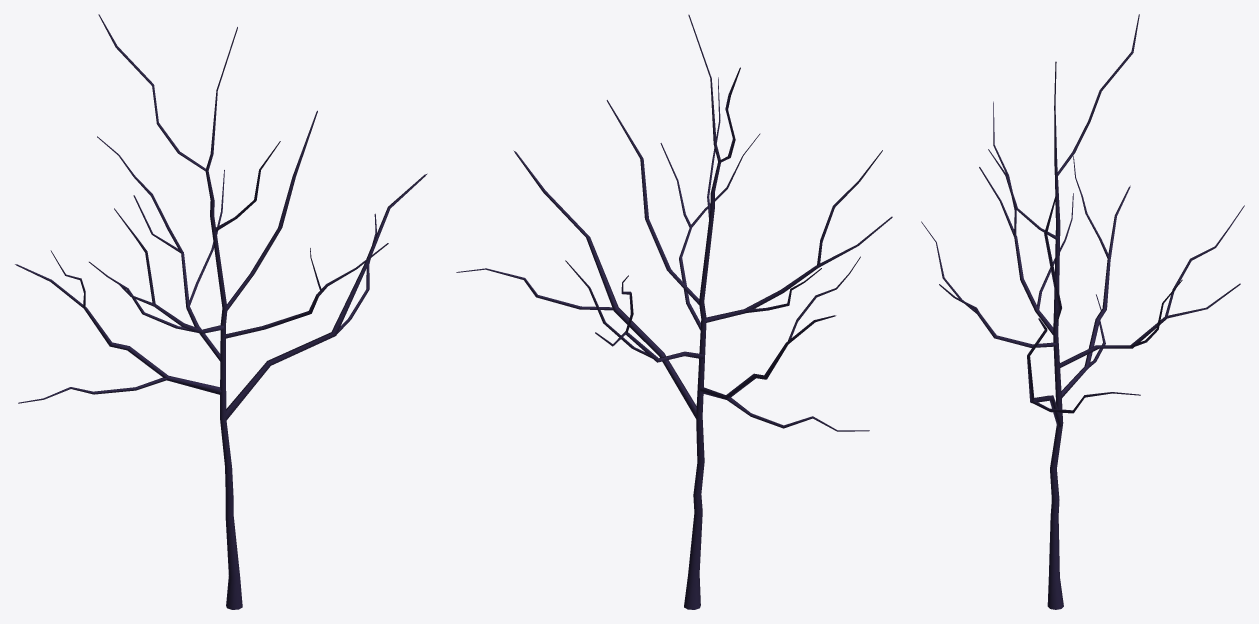
The model's file is cmc_baremaple.fbx.
3 renders of one model, left to right at view 1: azimuth 30°, elevation 25°; view 2: azimuth 150°, elevation 25°; view 3: azimuth 270°, elevation 25°, orthographic. The views are drawn at different scales.
Visible parts, largest first — view 1: bare_maple_tree_LOD0; view 2: bare_maple_tree_LOD0; view 3: bare_maple_tree_LOD0.
Part boxes in pixels (left/top/right/bottom): bare_maple_tree_LOD0: left=15, top=14, right=427, bottom=609; bare_maple_tree_LOD0: left=456, top=14, right=892, bottom=609; bare_maple_tree_LOD0: left=921, top=14, right=1244, bottom=609.
Size of what is drawn, in the model's own units: 11.38 by 16.61 by 8.85.
